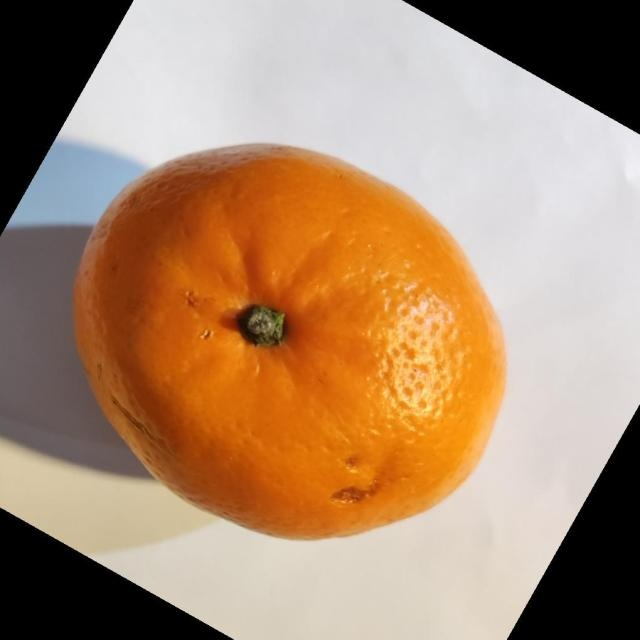agrume: (72, 141, 508, 542)
